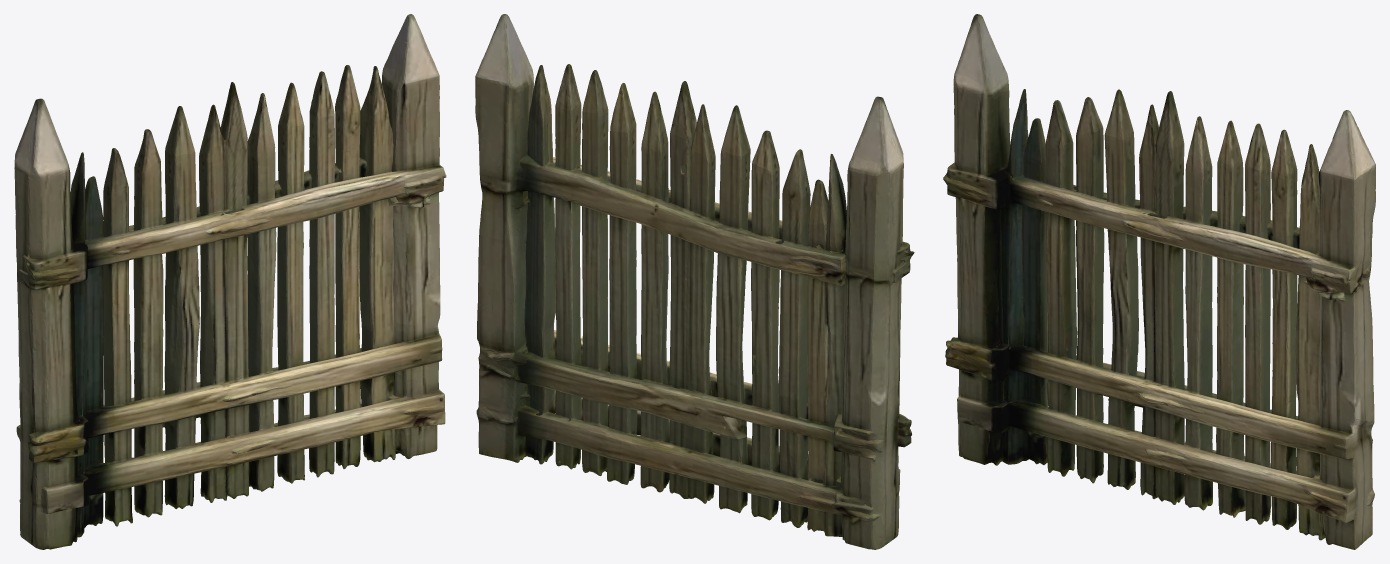
File: combat_barricade_01.glb
3 views of the same model, side by side, from view 1: azimuth 30°, elevation 25°; view 2: azimuth 150°, elevation 25°; view 3: azimuth 330°, elevation 25° (orthographic).
Parts seen in each view (by area): view 1: geometry_0; view 2: geometry_0; view 3: geometry_0.
Part boxes in pixels (x1,y1,x2,y2): geometry_0: (14,14,446,549); geometry_0: (475,14,914,549); geometry_0: (943,14,1375,549).
Bounding box in the file's own units: 0.9756 × 1 × 0.1277.
1 material, 1 textured.
